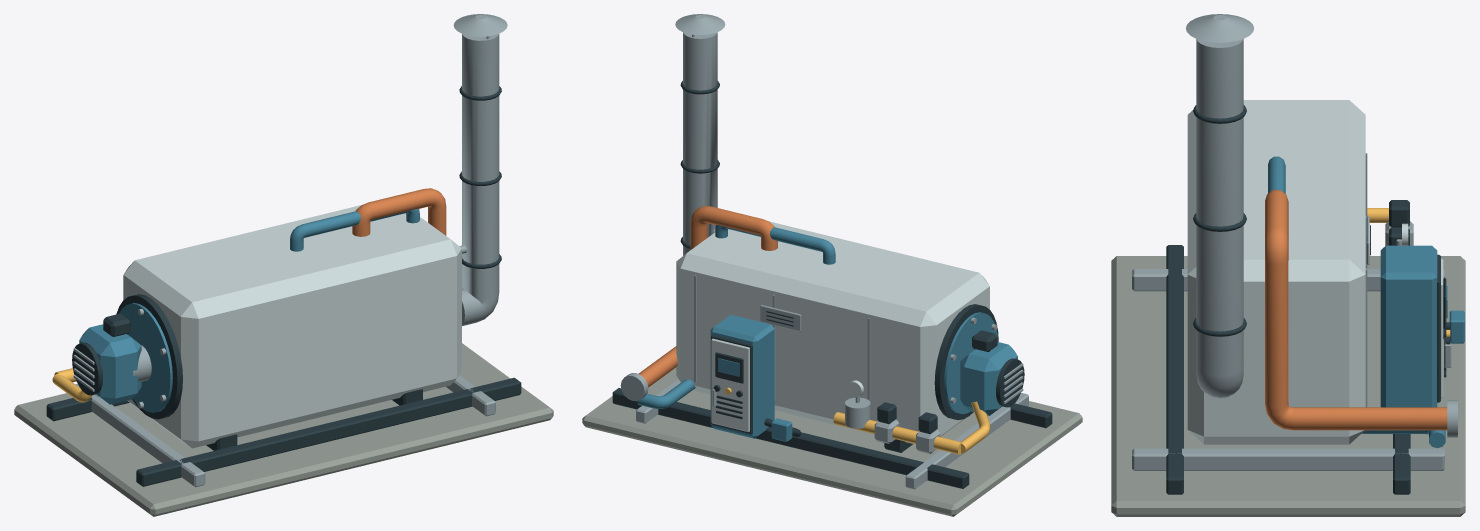
File: fuel_boiler.glb
The picture shows the model from 3 angles, left to right: view 1: azimuth 30°, elevation 25°; view 2: azimuth 150°, elevation 25°; view 3: azimuth 270°, elevation 25°; orthographic projection. The views are drawn at different scales.
Parts seen in each view (by area): view 1: ThermalAssembly; view 2: ThermalAssembly; view 3: ThermalAssembly.
Boxes of the visible parts, <box> form: ThermalAssembly: <box>14,14,553,516</box>; ThermalAssembly: <box>582,14,1082,516</box>; ThermalAssembly: <box>1111,14,1465,516</box>.
Size of the model in its own units: 0.5 by 0.45 by 0.3.
